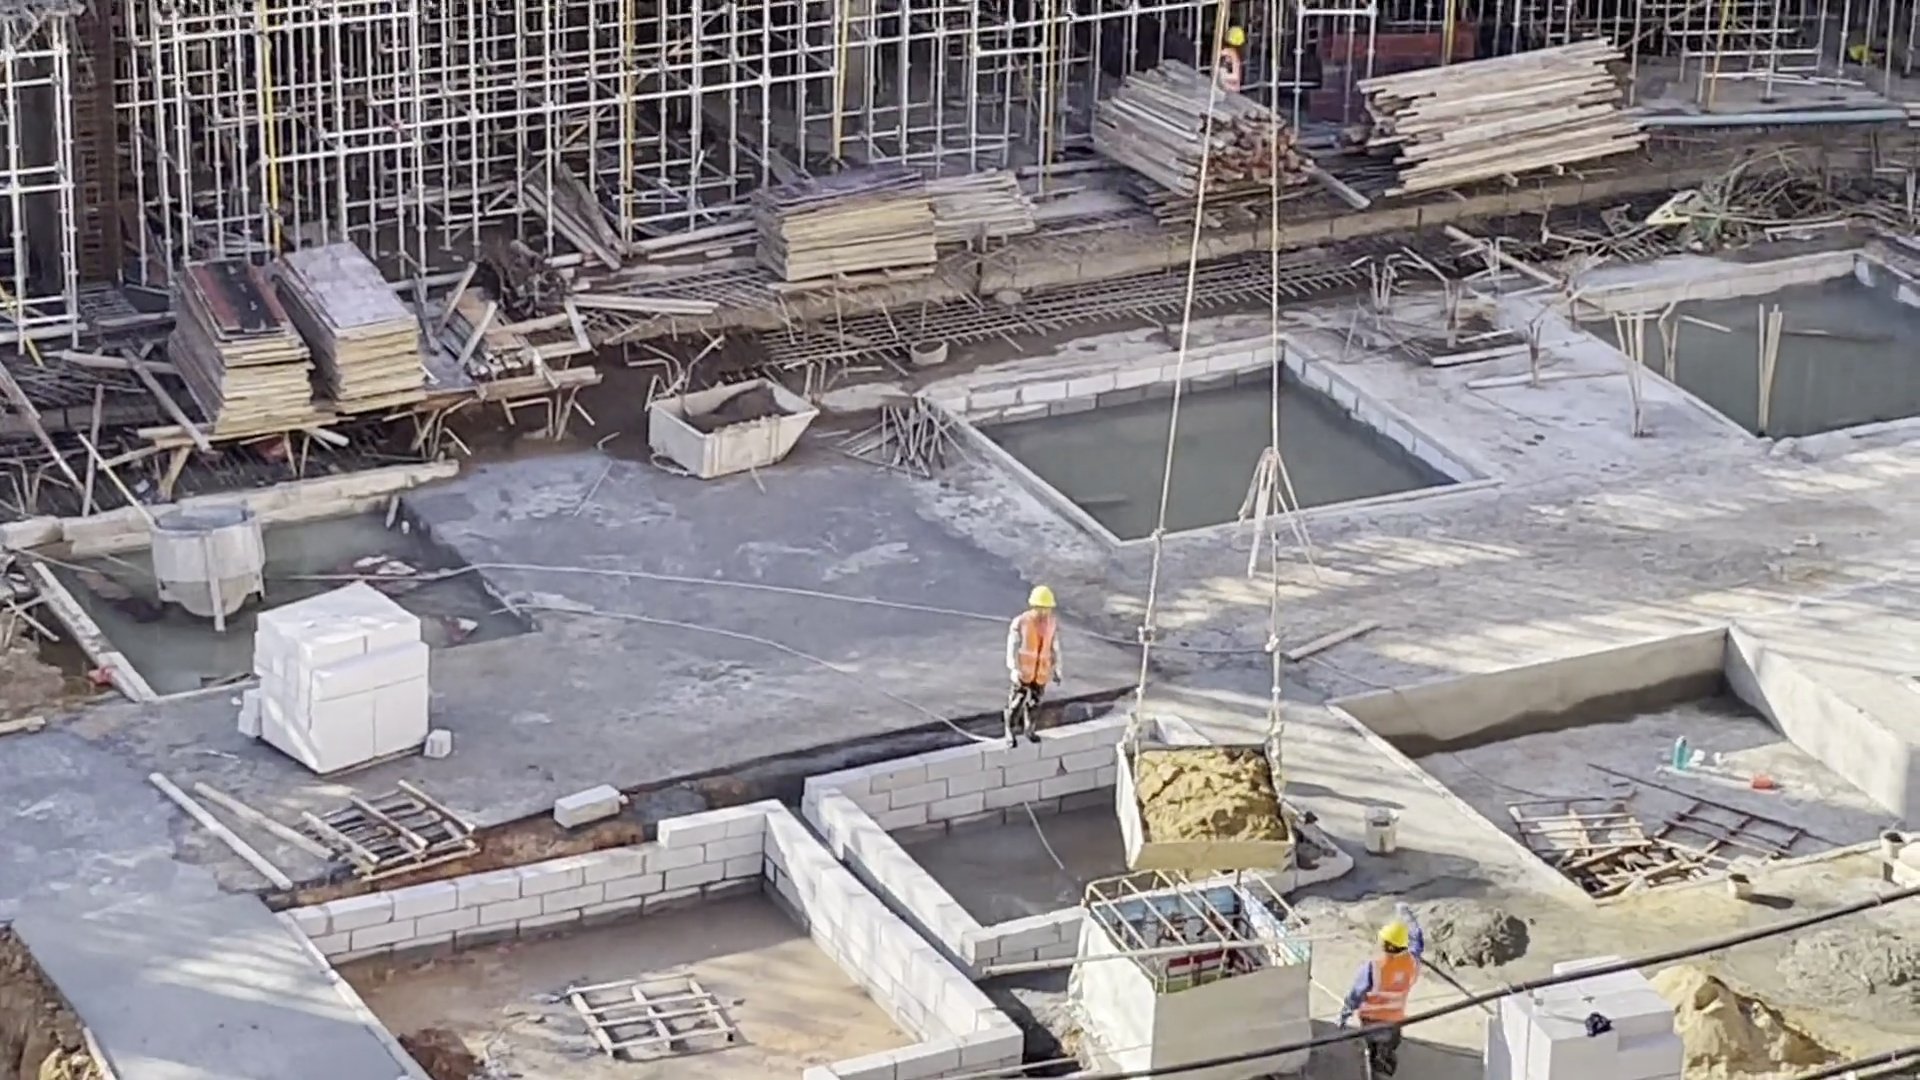board: (271, 239, 434, 419), (163, 256, 321, 442), (751, 165, 941, 287)
brick: (235, 579, 452, 779), (1475, 1009, 1690, 1080)
helmet: (1377, 918, 1409, 951), (1025, 583, 1058, 609), (1223, 25, 1245, 47)
hopper: (1096, 735, 1289, 875), (641, 378, 832, 485), (148, 501, 271, 632)
person: (1336, 900, 1437, 1028), (996, 580, 1069, 749), (1221, 23, 1253, 92)
vest: (1354, 955, 1416, 1024), (1012, 610, 1058, 687), (1223, 50, 1241, 92)
wood: (1354, 34, 1645, 200), (1103, 56, 1314, 194)
